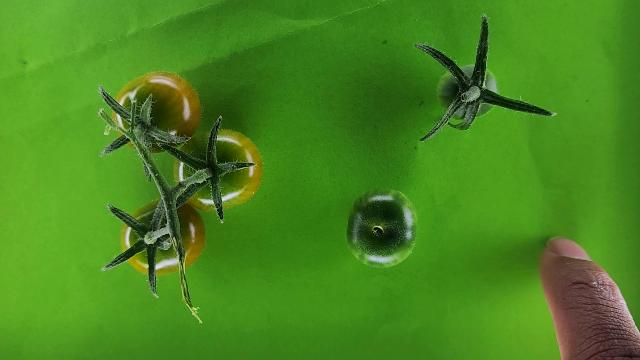Fruit Maturation: (346, 189, 419, 268), (436, 66, 496, 121)
Fully Grown: (176, 126, 265, 213), (113, 71, 203, 152), (122, 199, 206, 276)
